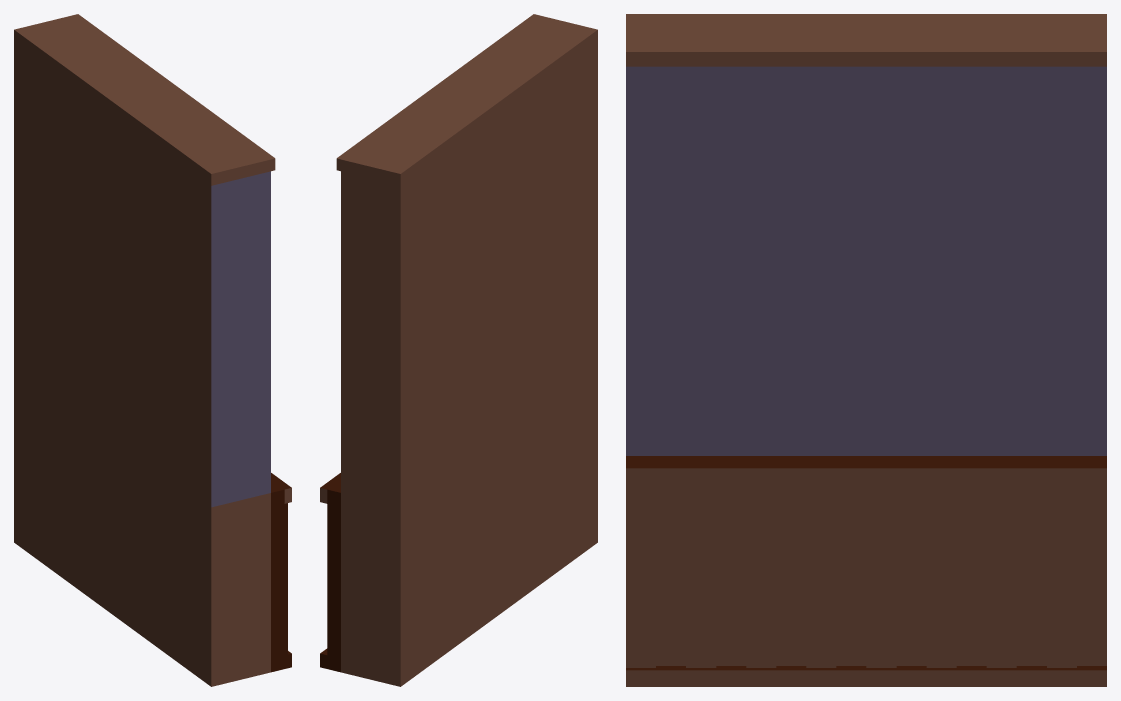
The model's file is Pentacles_Wall_Basic.fbx.
The picture shows the model from 3 angles, left to right: view 1: azimuth 30°, elevation 25°; view 2: azimuth 150°, elevation 25°; view 3: azimuth 270°, elevation 25°; orthographic projection. The views are drawn at different scales.
Visible parts, largest first — view 1: Wall Basic; view 2: Wall Basic; view 3: Wall Basic.
Boxes of the visible parts, <box> form: Wall Basic: <box>14,14,291,686</box>; Wall Basic: <box>320,14,597,686</box>; Wall Basic: <box>626,14,1106,686</box>.
Bounding box in the file's own units: 98.17 × 597 × 416.
